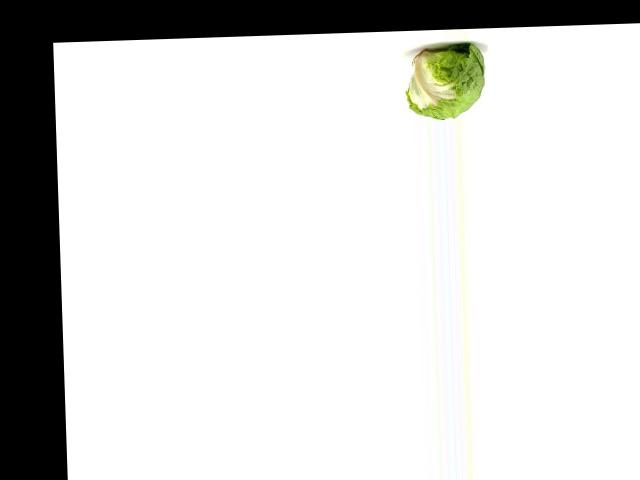lettuce: (402, 38, 488, 120)
